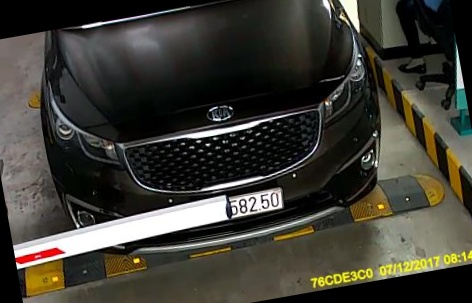plate: (207, 177, 292, 223)
